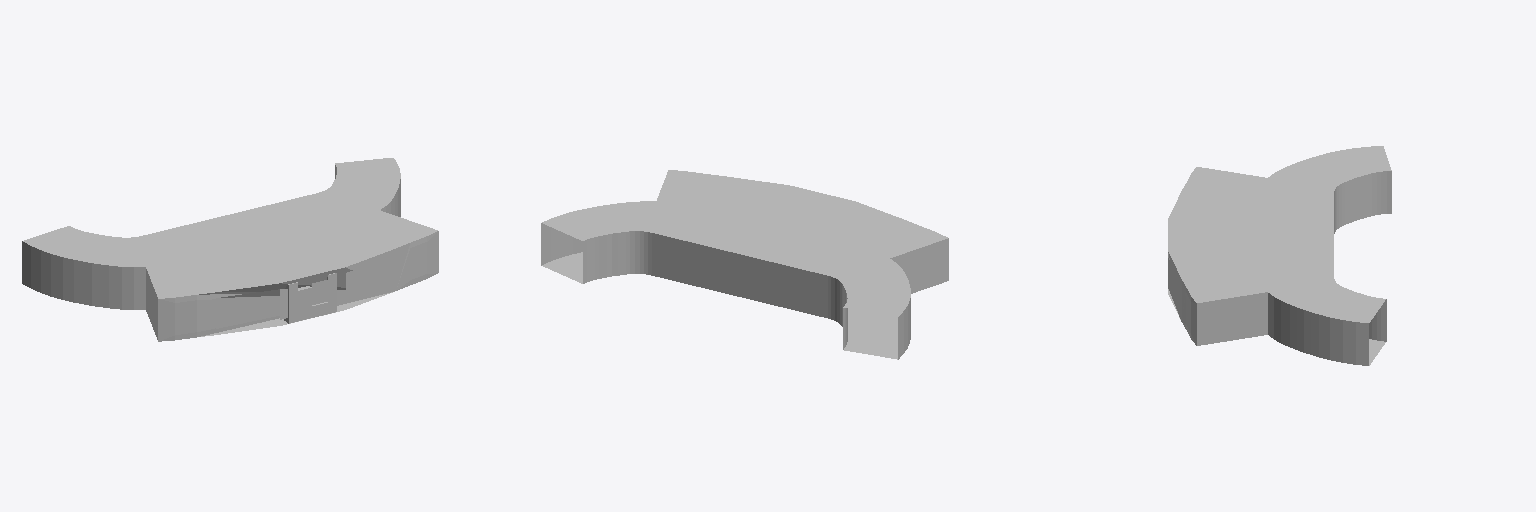
File: hallanimation.obj
3 renders of one model, left to right at view 1: azimuth 30°, elevation 25°; view 2: azimuth 150°, elevation 25°; view 3: azimuth 270°, elevation 25°, orthographic.
Parts seen in each view (by area): view 1: polySurface18 polySurface12, pPlane2; view 2: polySurface18 polySurface12; view 3: polySurface18 polySurface12.
Boxes of the visible parts, x1,y1,x2,y2 form: polySurface18 polySurface12: [22, 158, 438, 341]; pPlane2: [284, 273, 336, 323]; polySurface18 polySurface12: [541, 170, 948, 359]; polySurface18 polySurface12: [1168, 146, 1391, 365].
Bounding box in the file's own units: 107 × 12.07 × 57.14.